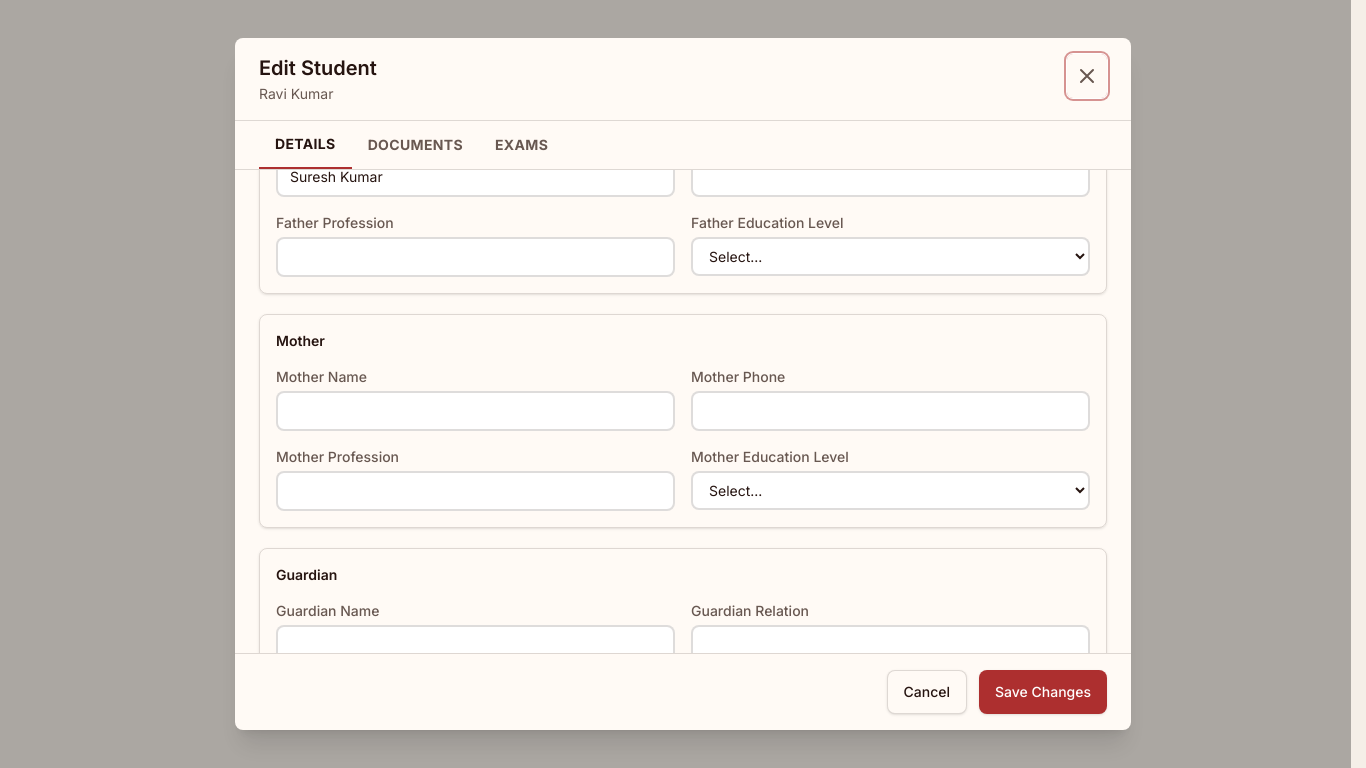
EditStudentModal › typing in the new fields › drops digits and symbols from the parent names
The image size is (1366, 768).
(page scrolled)
Type "Sita2 (Mrs)" into the field named "mother_name".
click(476, 411); type("Sita2 (Mrs)")  # box left=276, top=391, right=675, bottom=431
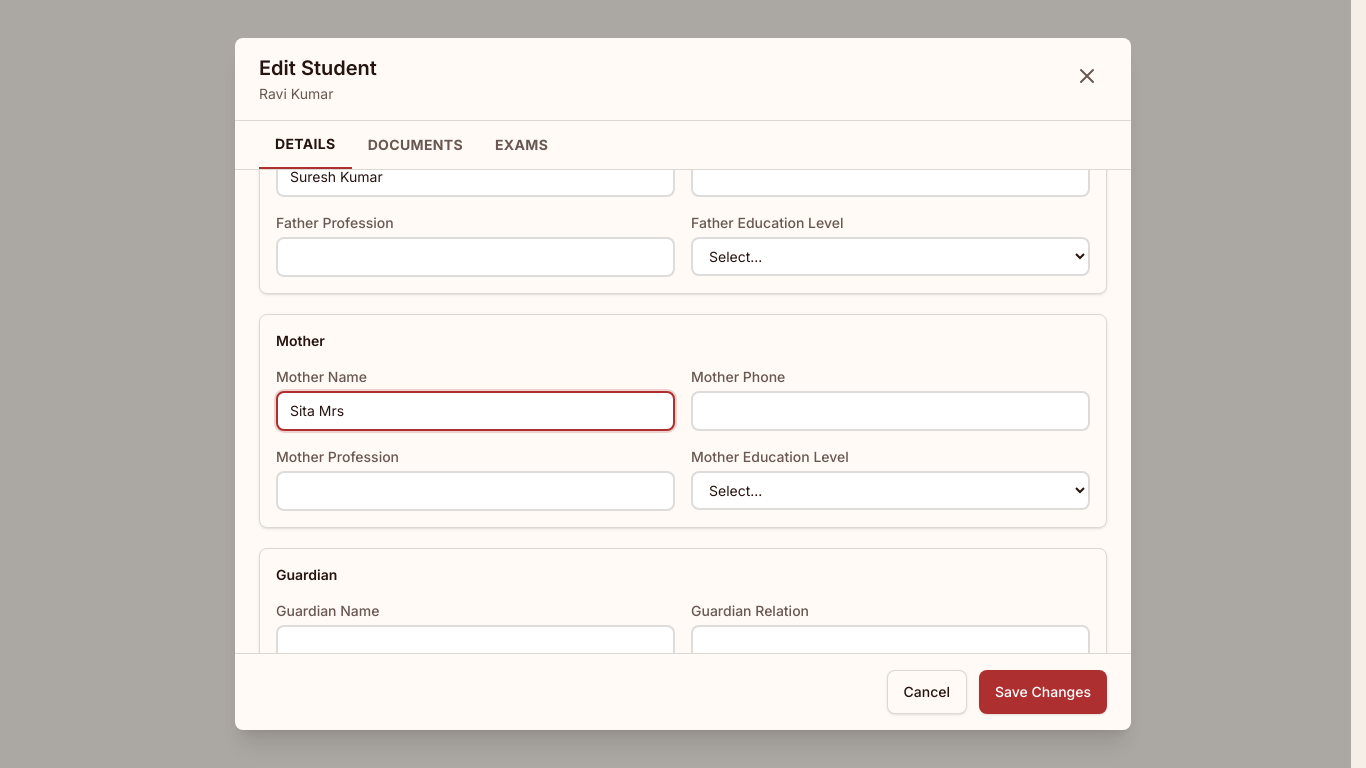
Now the field named "mother_name" holds "Sita Mrs", box left=276, top=391, right=675, bottom=431
